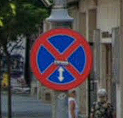oprirea_interzisa: (31, 29, 92, 91)
